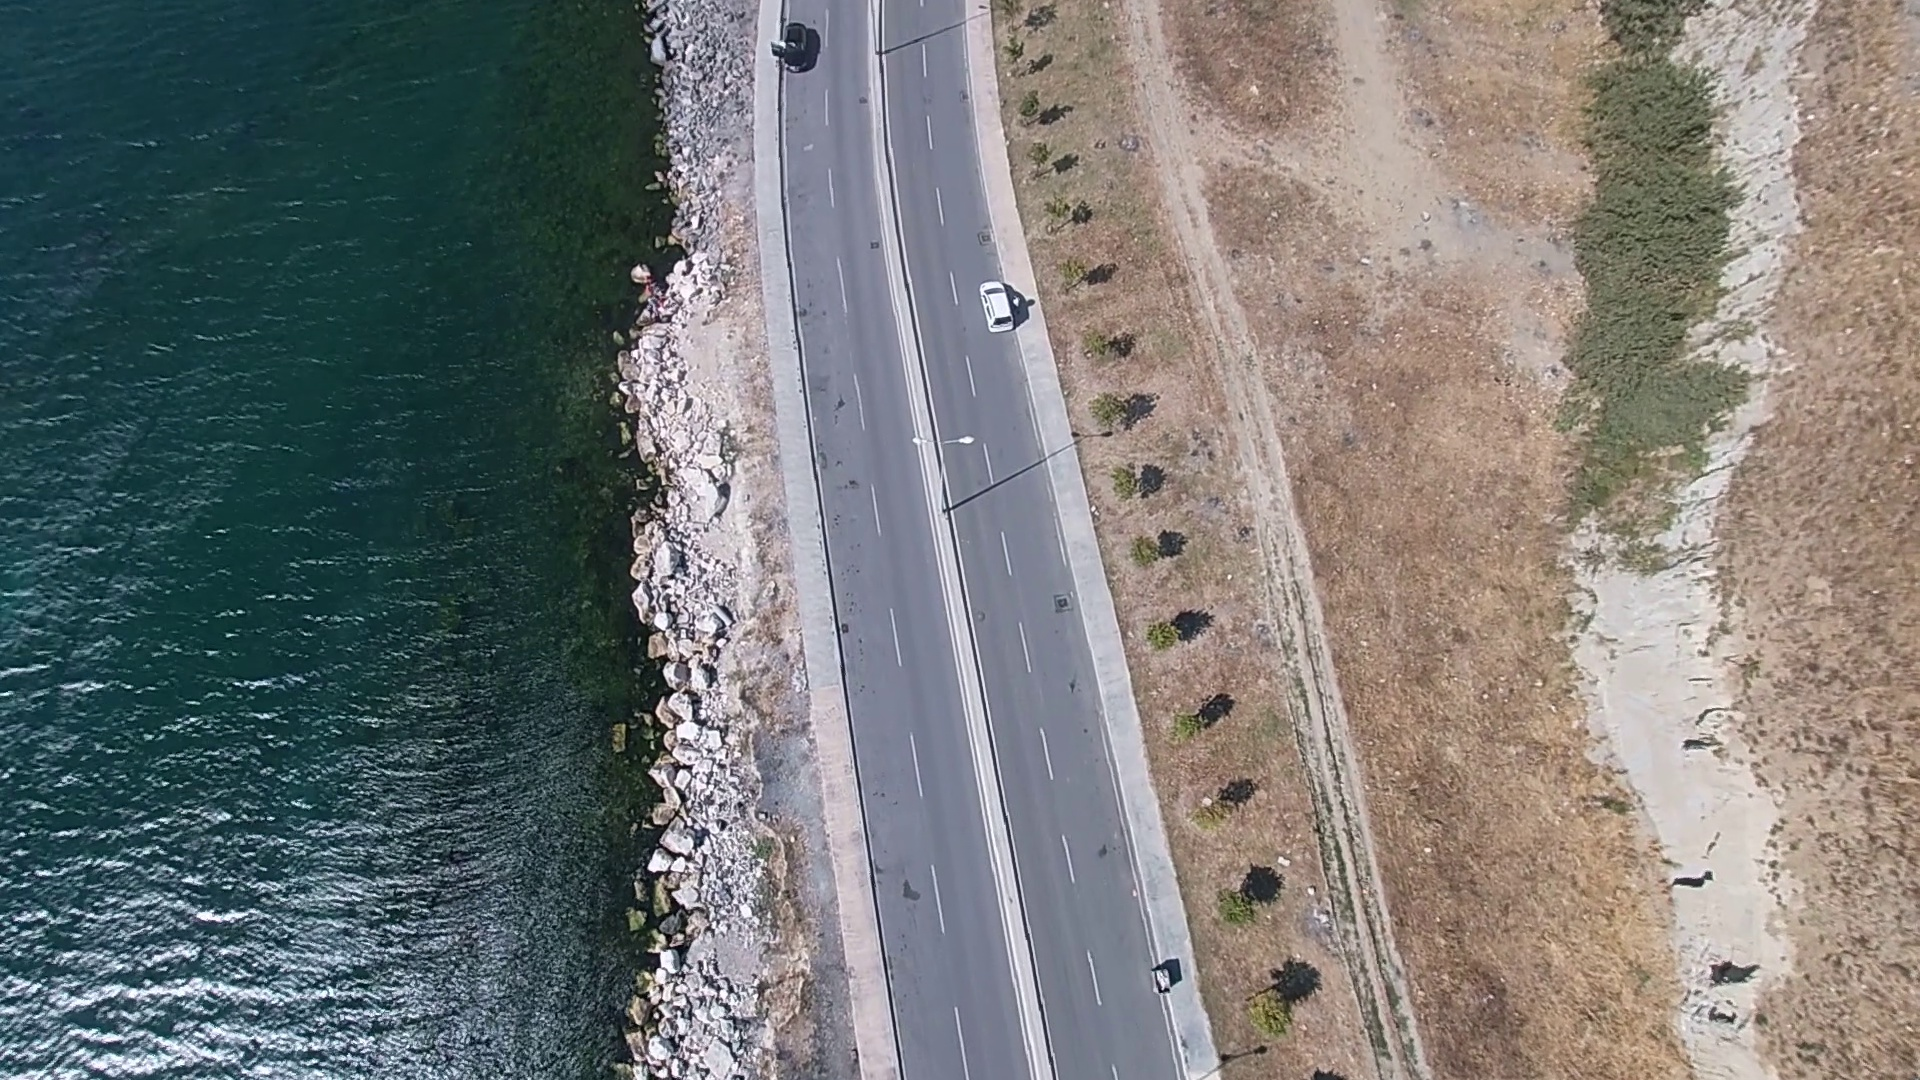arac: (973, 269, 1021, 332), (775, 16, 819, 75)
